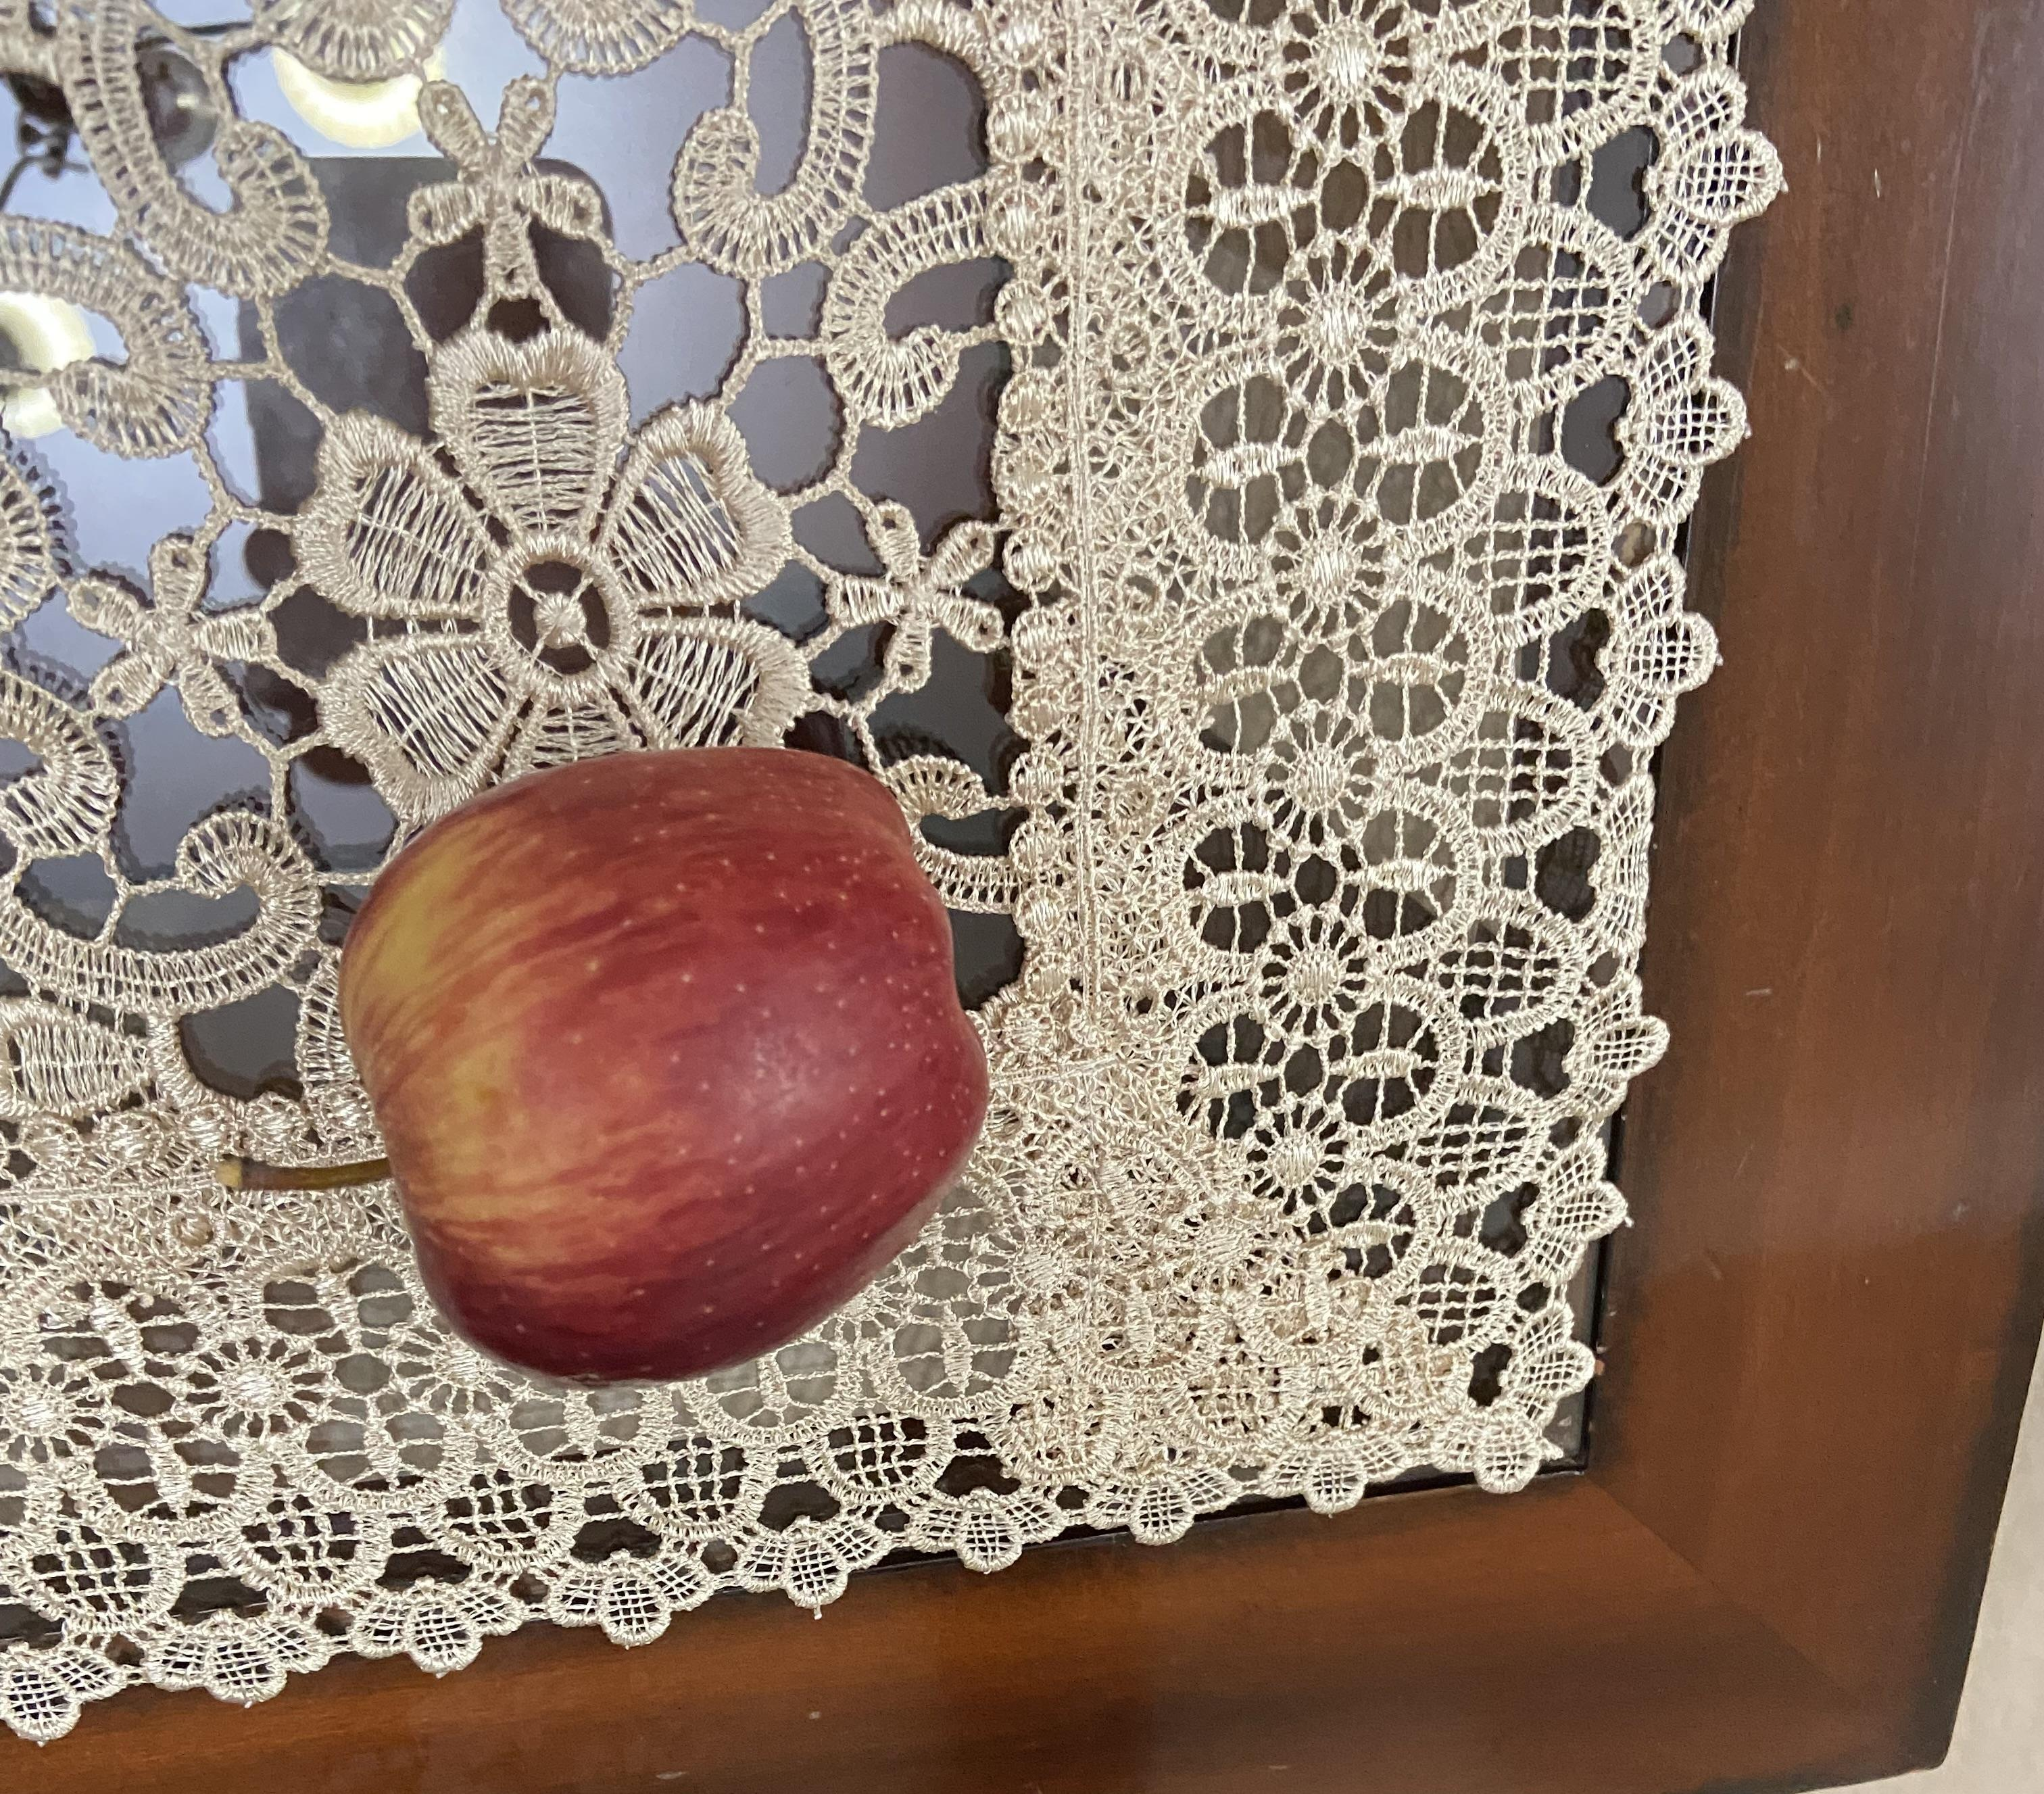Apple: (221, 741, 994, 1396)
